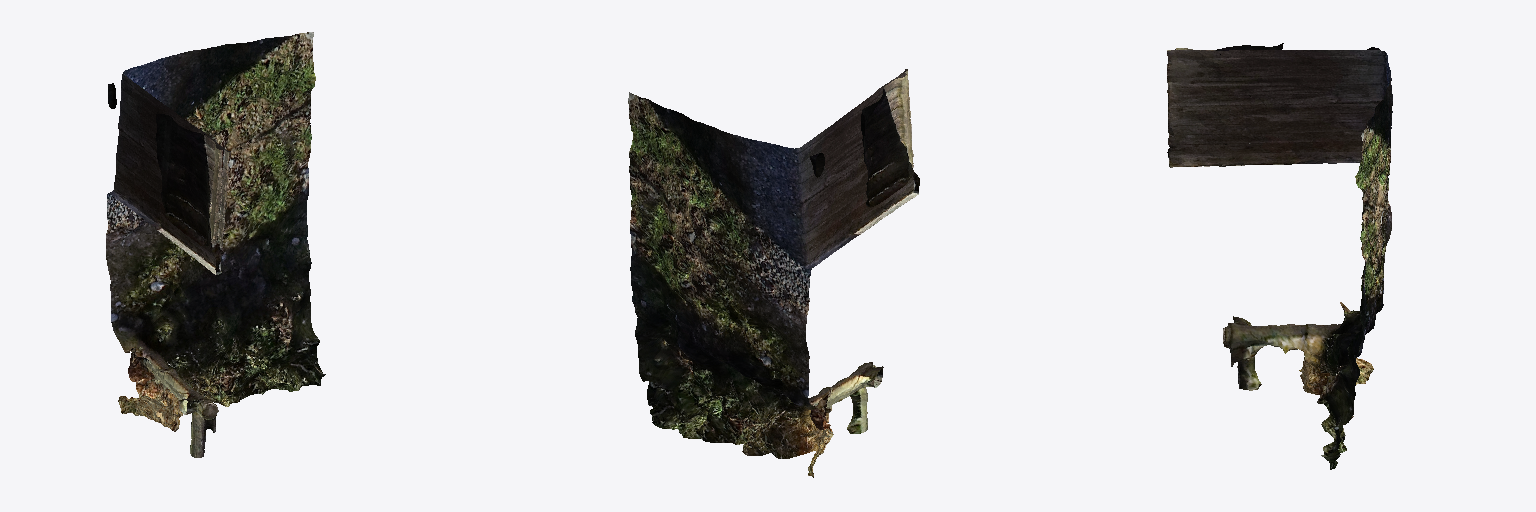
The picture shows the model from 3 angles: view 1: azimuth 30°, elevation 25°; view 2: azimuth 150°, elevation 25°; view 3: azimuth 270°, elevation 25°; orthographic projection.
Size of the model in its own units: 1.91 by 3.15 by 1.89.
2 materials, 1 textured.